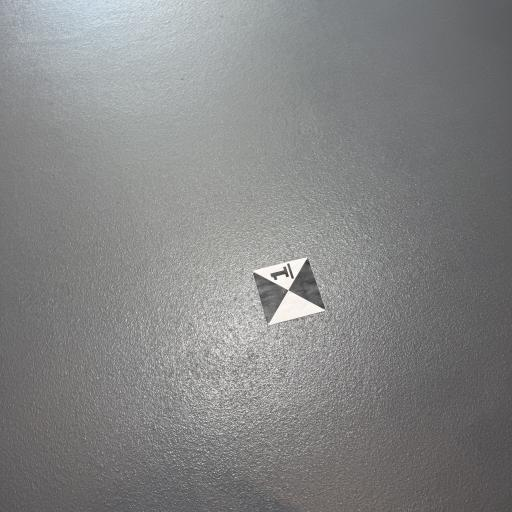target1: (245, 250, 332, 330)
